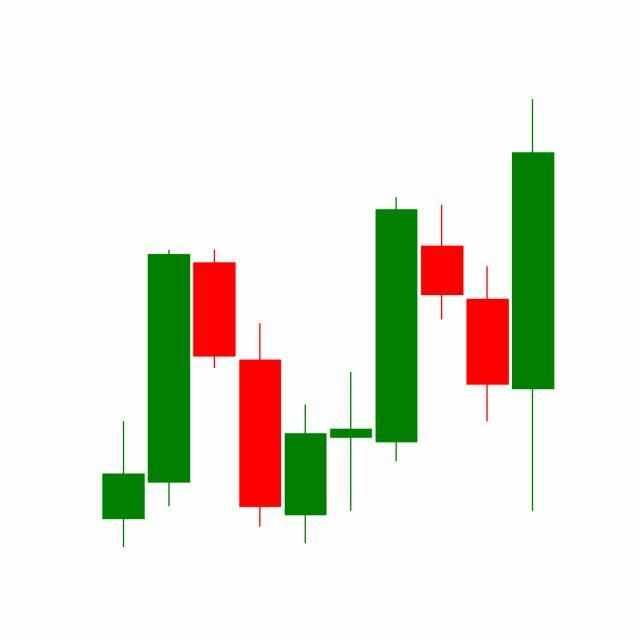Hikkake Pattern: (283, 194, 512, 548)
